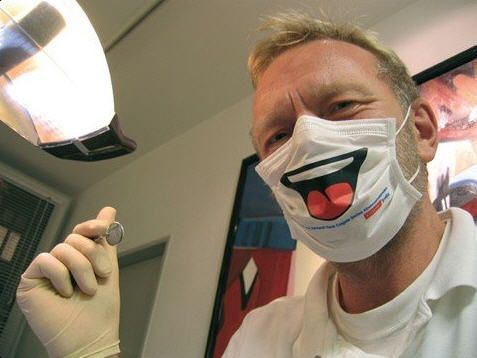with_mask: (251, 88, 391, 201)
